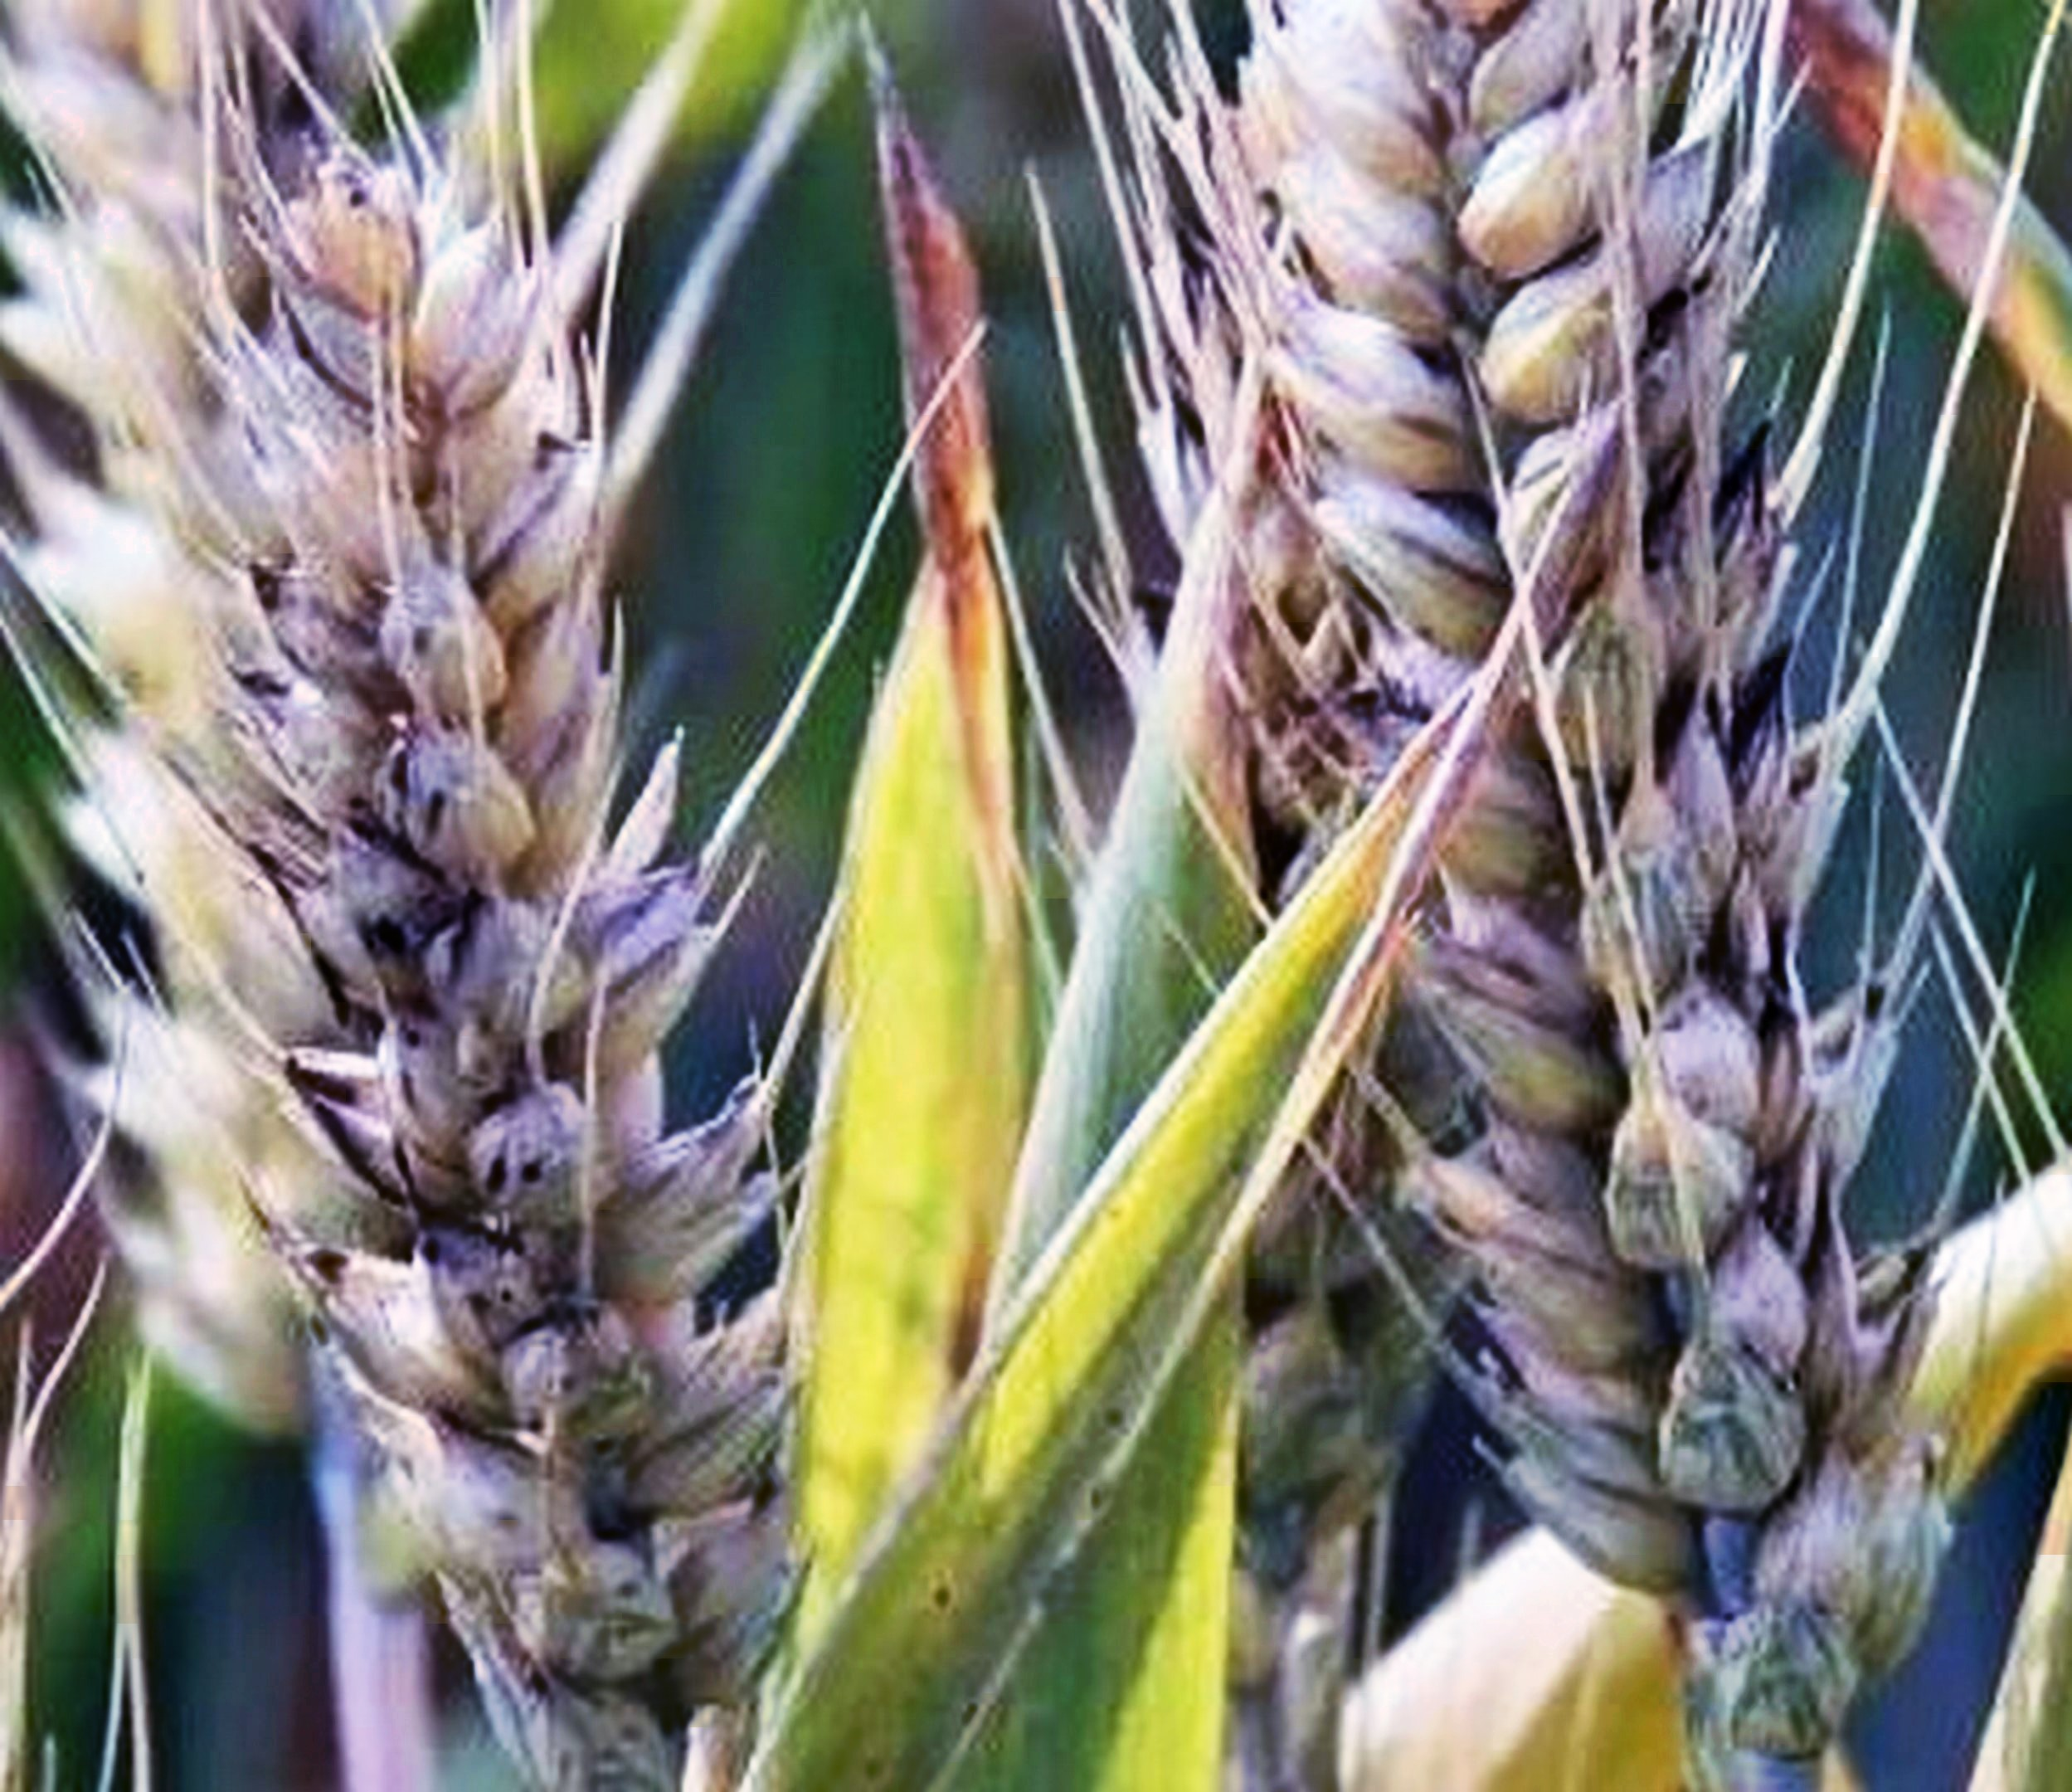Wheat scab: (1193, 0, 1993, 1614), (199, 141, 807, 1743)
